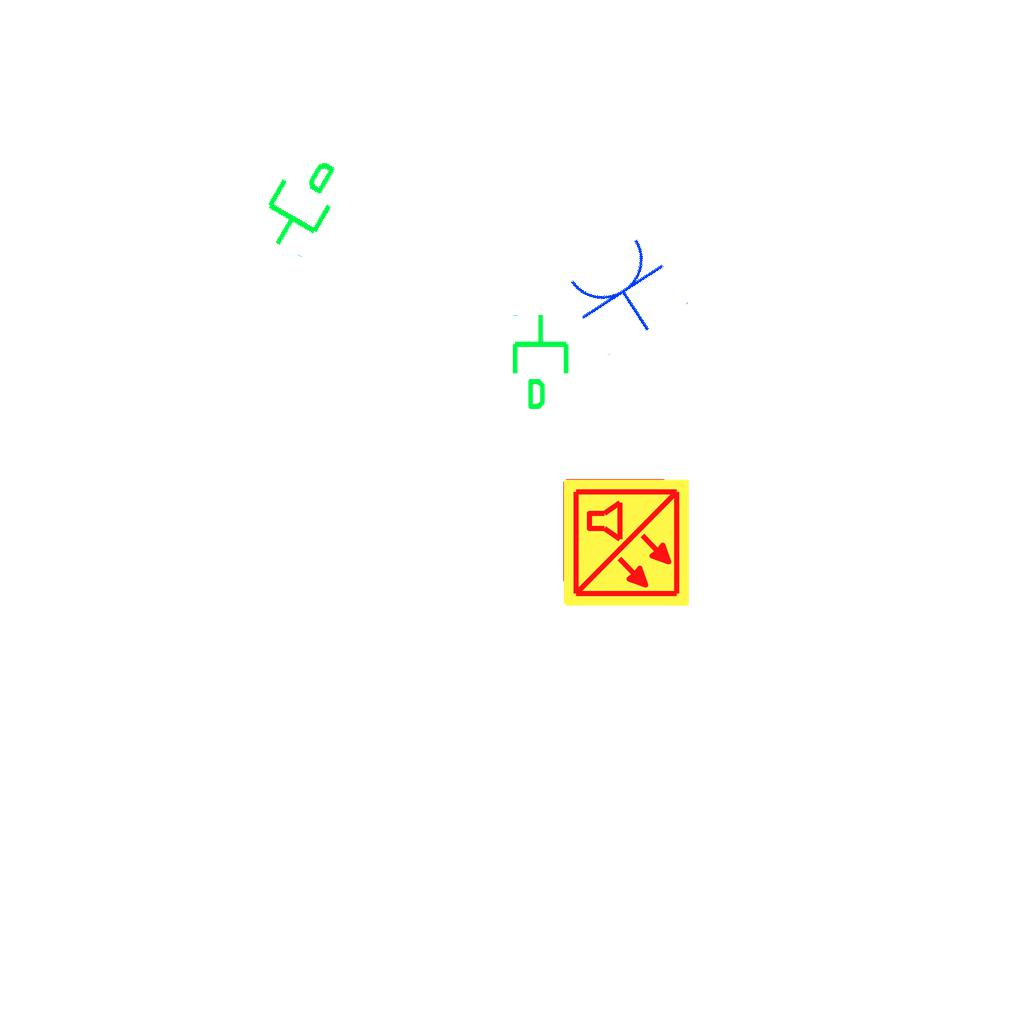Datenanschluss_einfach: (244, 141, 355, 263), (508, 312, 577, 412)
OKW_Multisensormelder_(Kombination_optischer_Rauch-Kahlenmonoxid_Waerme-Melder): (560, 477, 692, 609)
Schukosteckdose_einfach: (559, 229, 691, 358)
